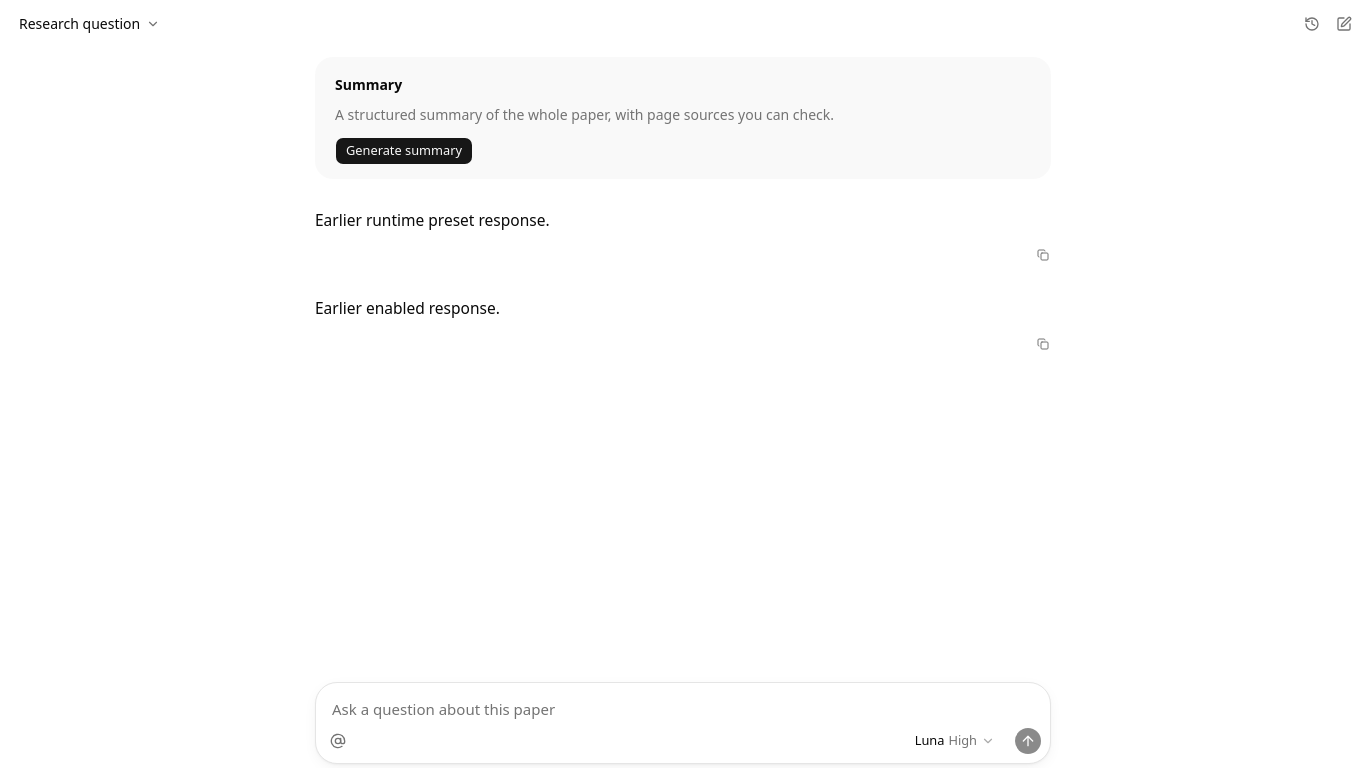
it: Given saved native default aliases High, When a new message is sent, Then it requests high and past answers stay readable without a reasoning label
Type "What changed?" into the field named "Question about this paper".
click(683, 705); type("What changed?")  # box [316, 683, 1050, 727]
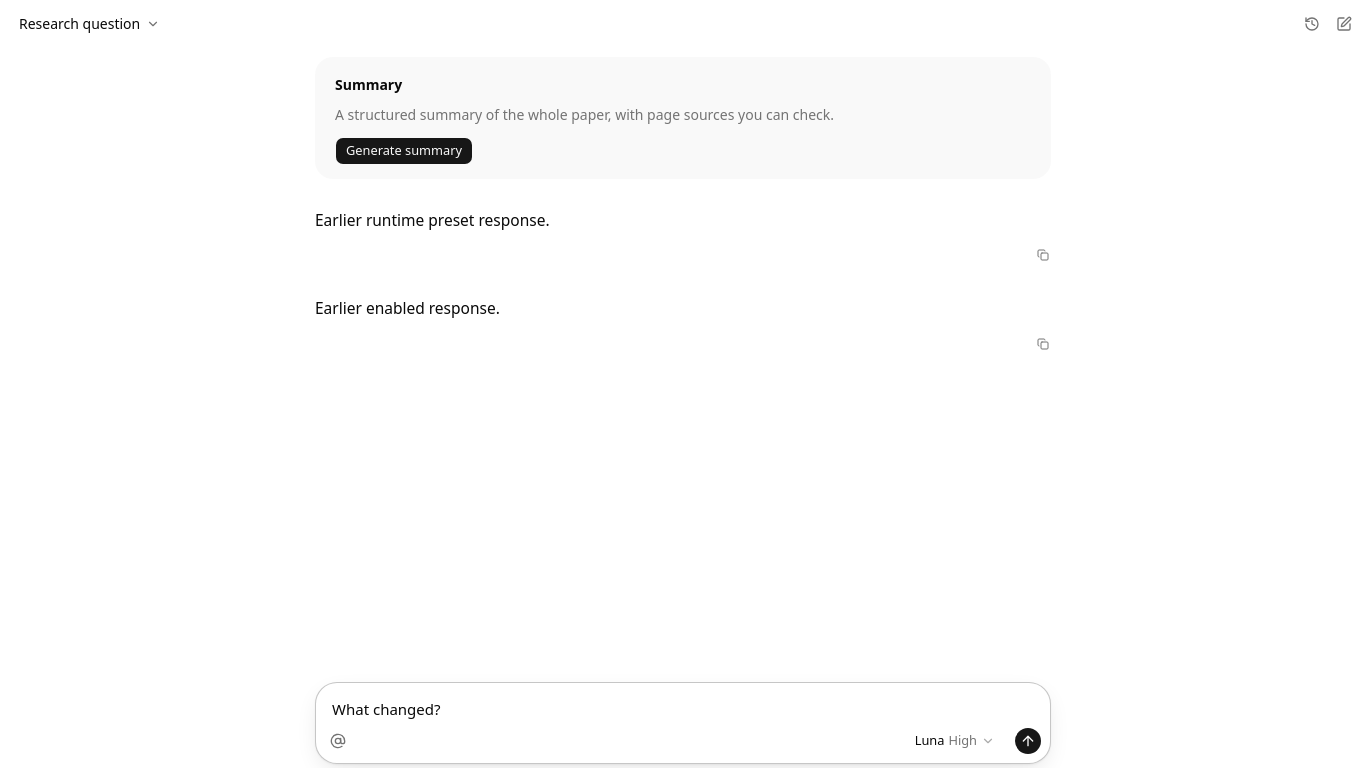
Click the button named "Ask question".
click(1028, 741)  # box [1014, 727, 1042, 755]
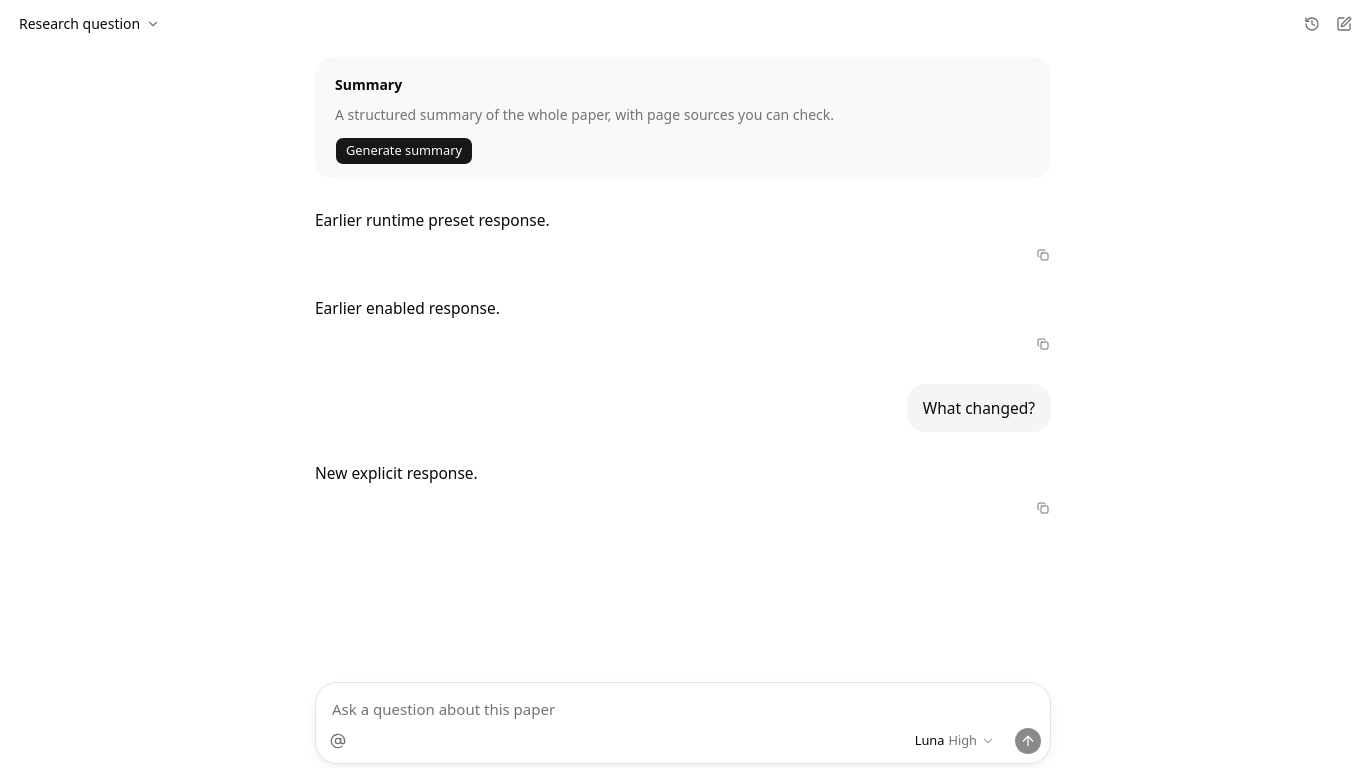
Check: the text "Earlier runtime preset response." is shown, box [315, 209, 550, 231]
Check: the text "New explicit response." is shown, box [315, 462, 478, 484]
